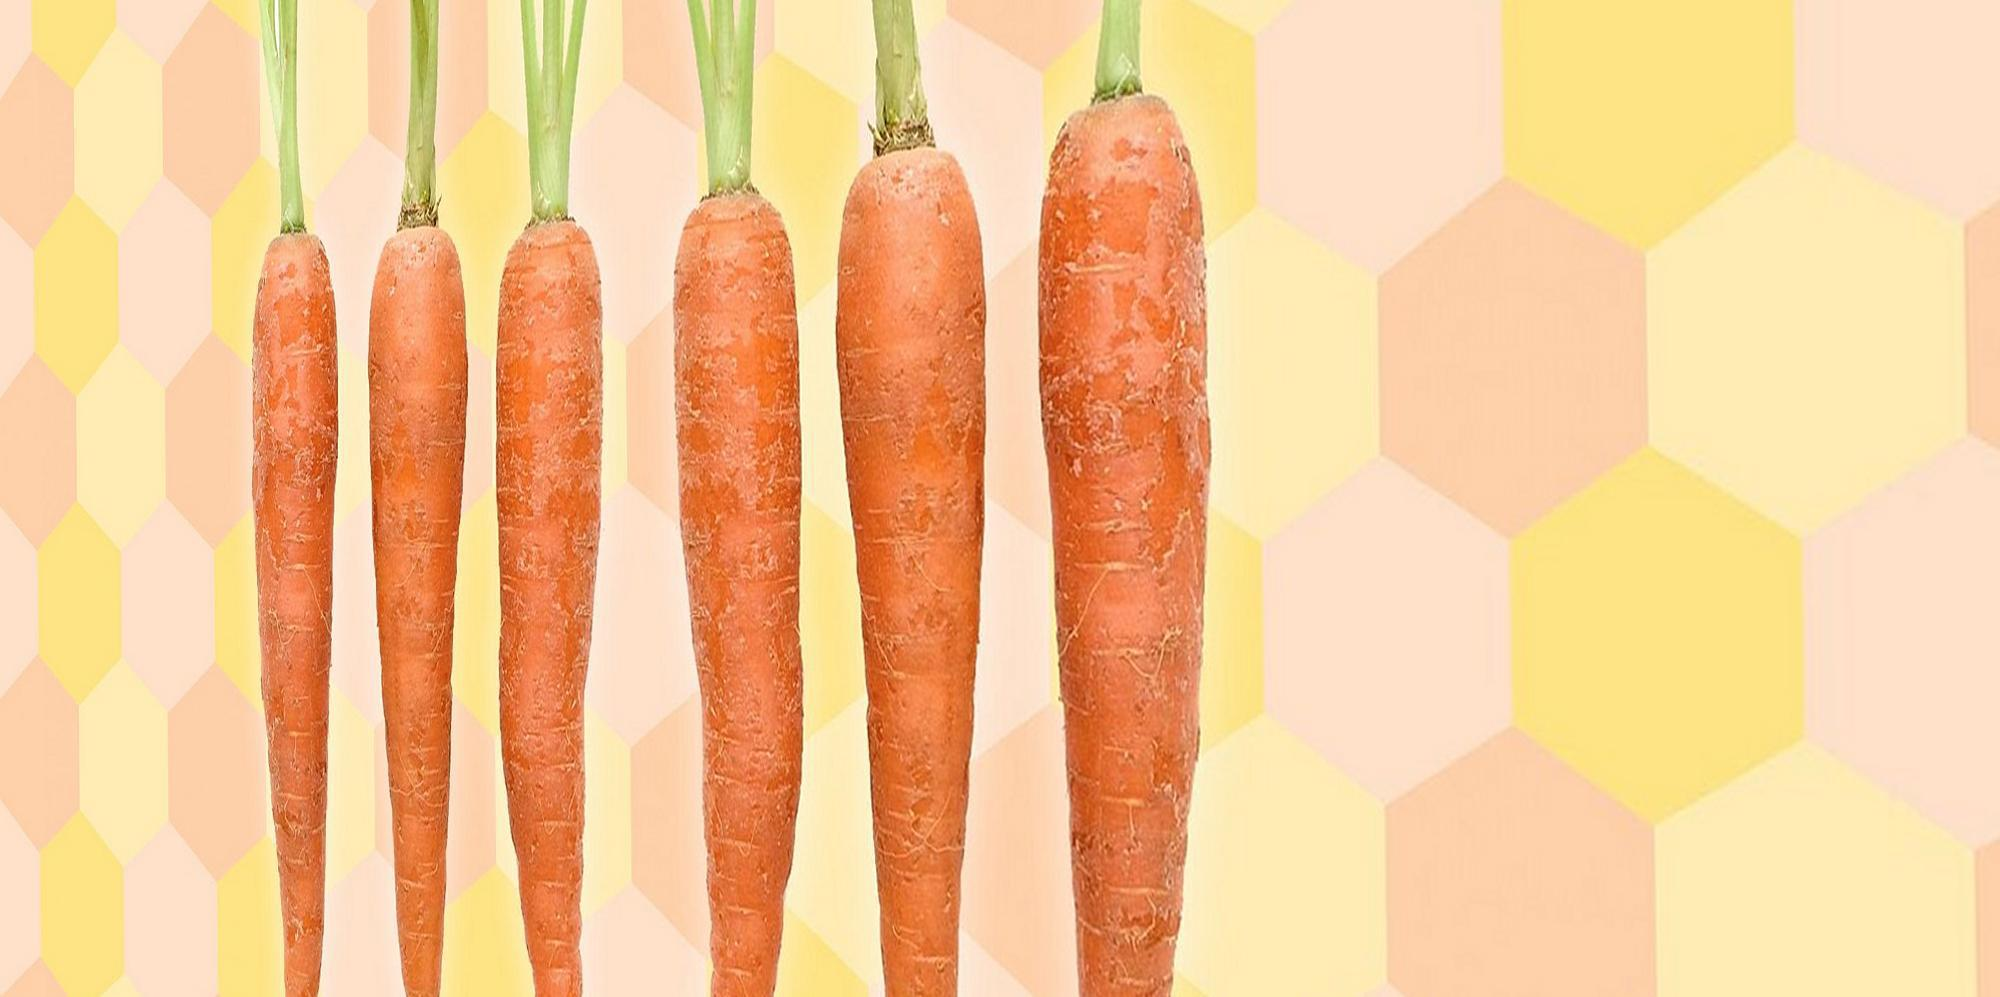carrot: (172, 113, 1403, 984), (1042, 62, 1237, 997), (829, 163, 1013, 997), (661, 190, 816, 997), (486, 214, 622, 997), (365, 215, 473, 997), (246, 229, 353, 997)
